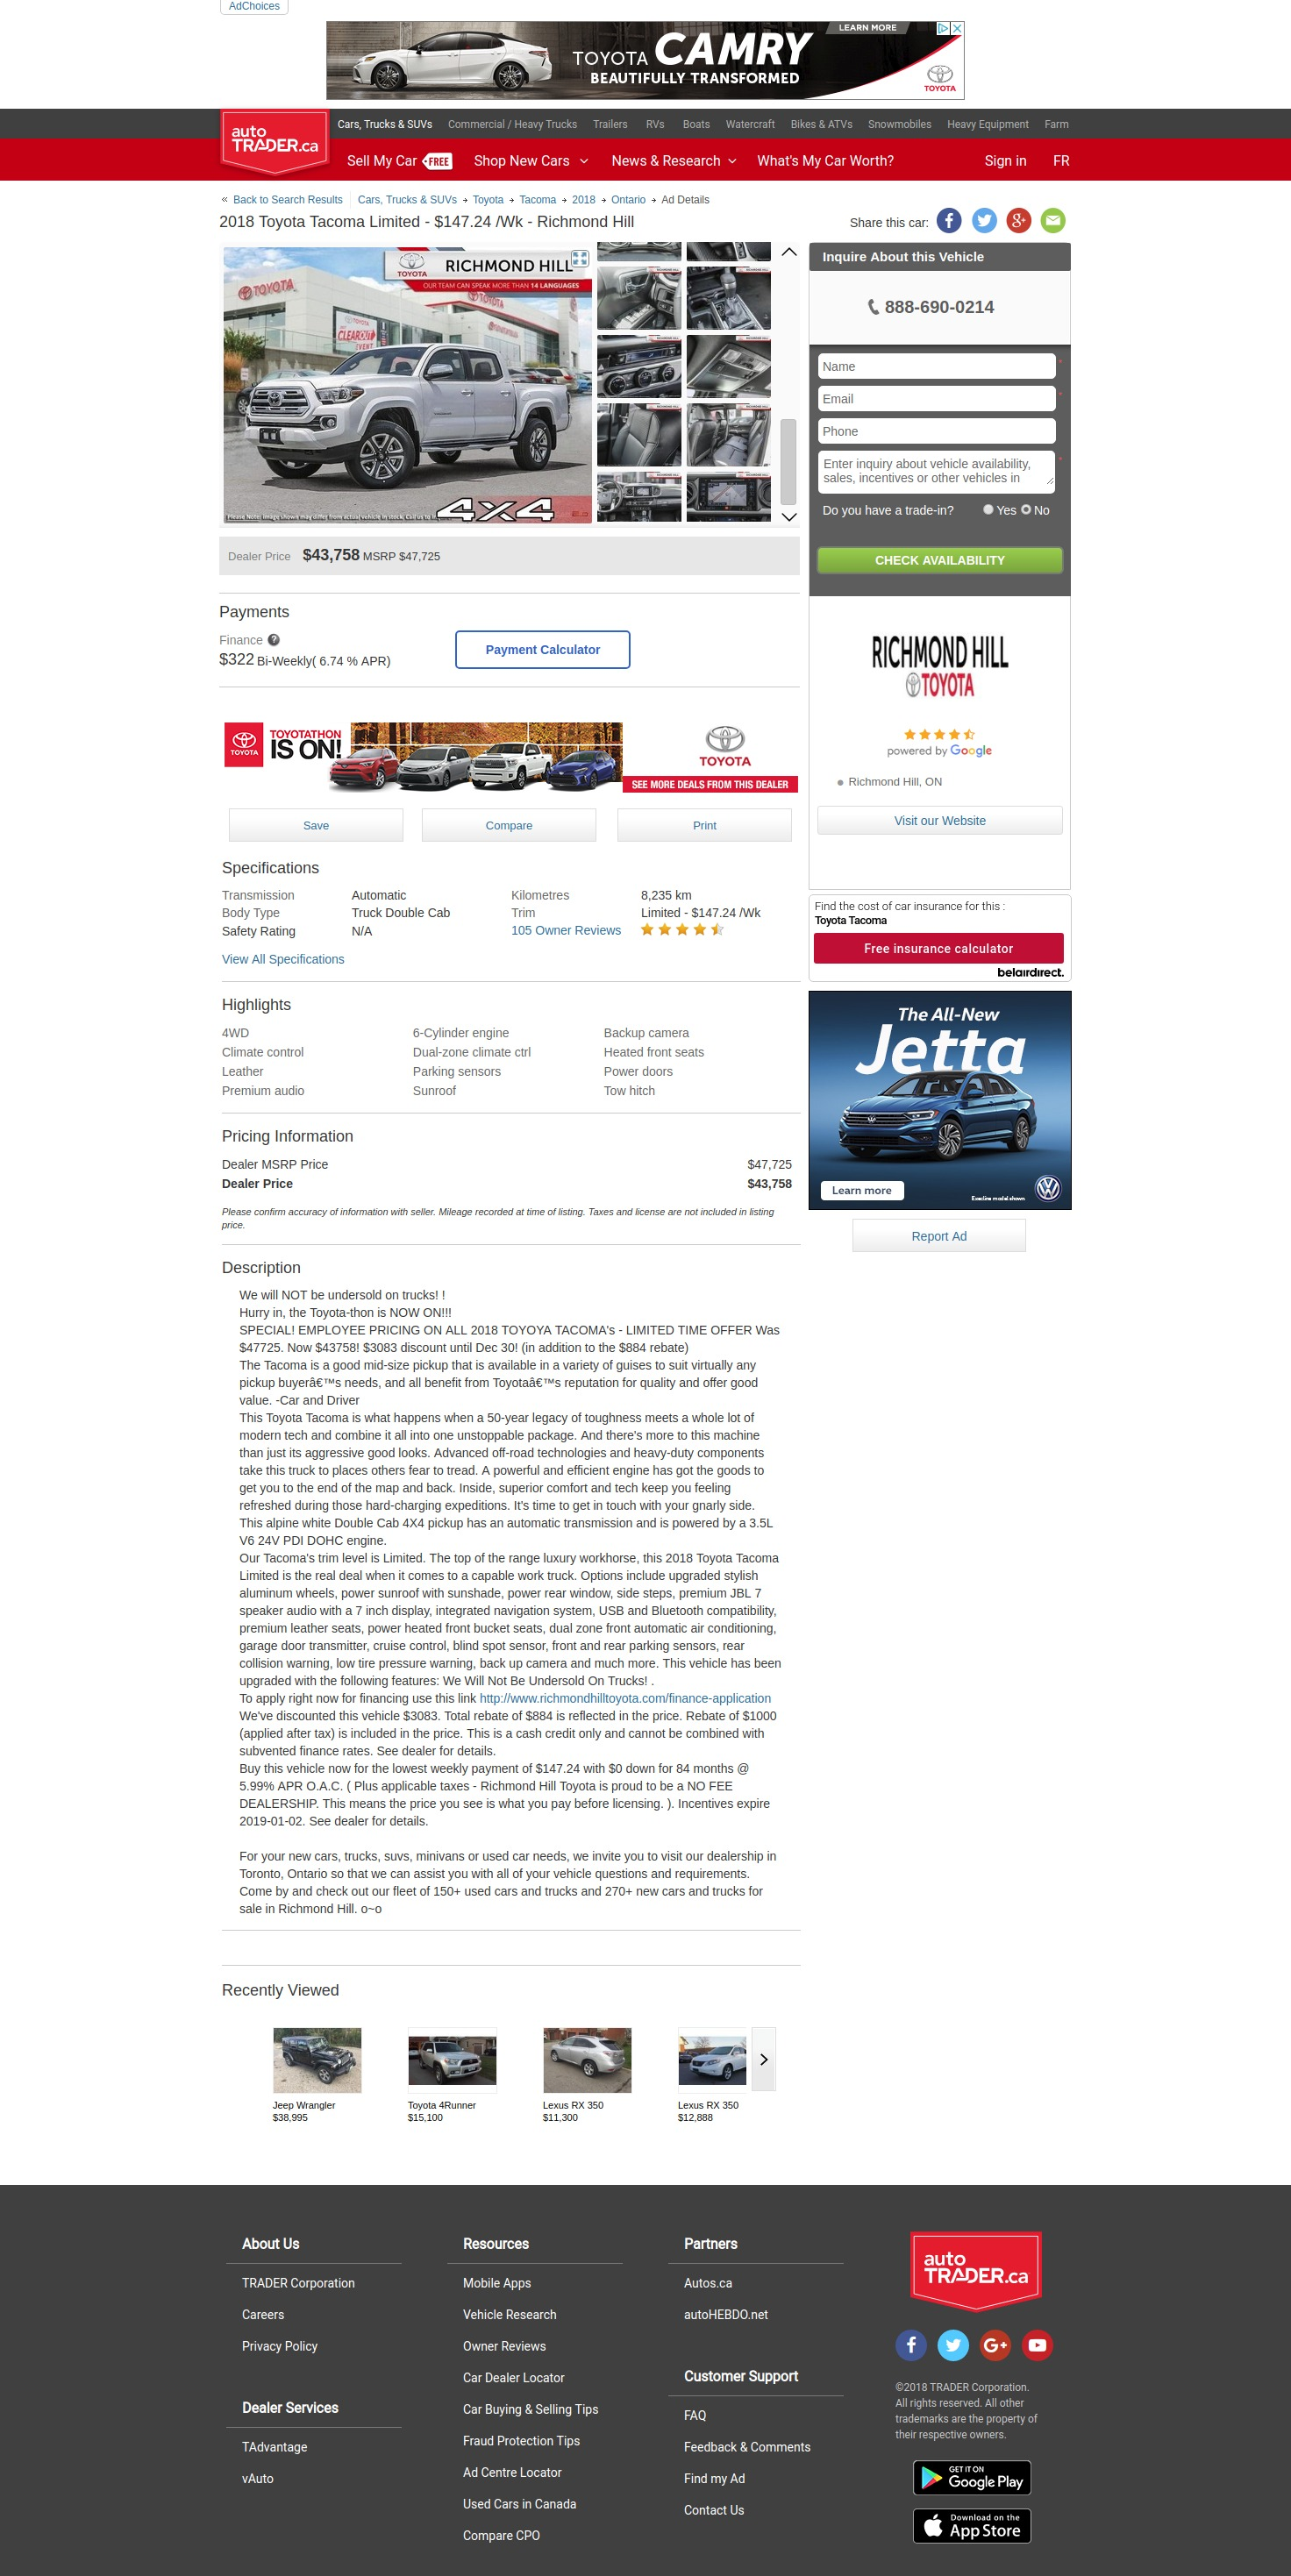car: (781, 512, 799, 523)
